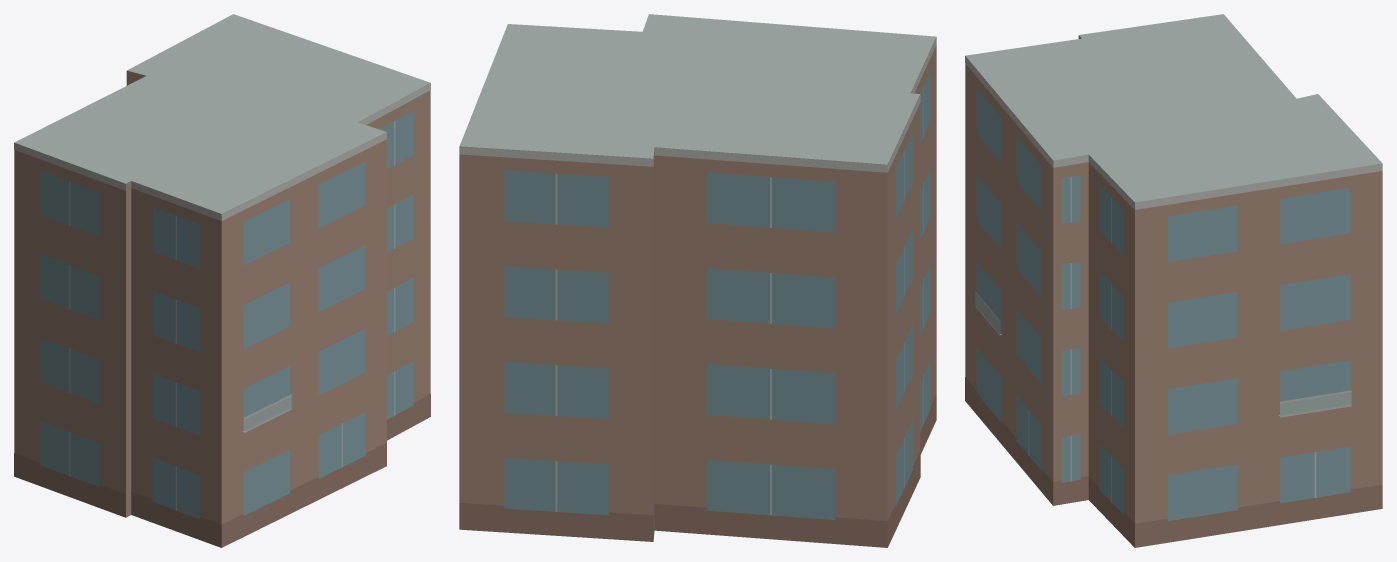
File: survey-upis-32963735.glb
3 renders of one model, left to right at view 1: azimuth 30°, elevation 25°; view 2: azimuth 150°, elevation 25°; view 3: azimuth 270°, elevation 25°, orthographic. The views are drawn at different scales.
Visible parts, largest first — view 1: survey-upis-32963735.tmp; view 2: survey-upis-32963735.tmp; view 3: survey-upis-32963735.tmp.
Part boxes in pixels (x1,y1,x2,y2): survey-upis-32963735.tmp: (14, 14, 430, 547); survey-upis-32963735.tmp: (459, 14, 936, 547); survey-upis-32963735.tmp: (965, 14, 1382, 547).
Size of the model in its own units: 13.36 by 11.4 by 12.5.
